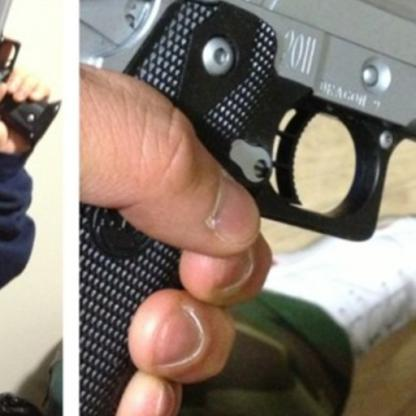gun: (79, 0, 415, 415), (0, 0, 63, 137)
